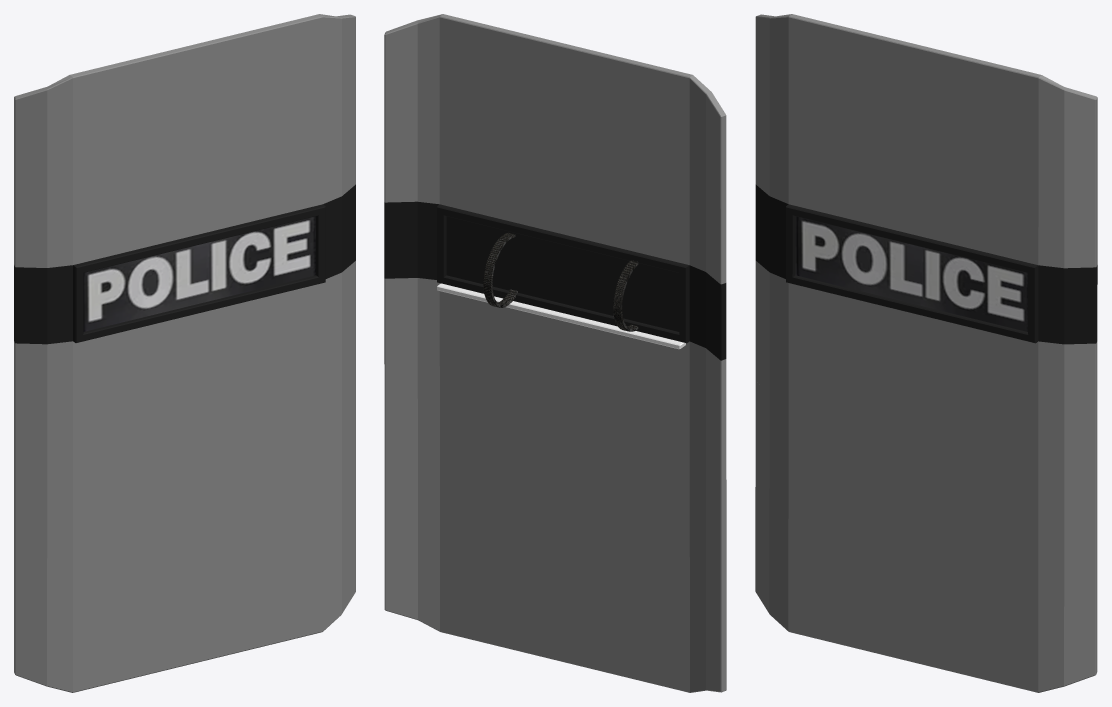
The model's file is Shield.FBX.
The picture shows the model from 3 angles, left to right: view 1: azimuth 30°, elevation 25°; view 2: azimuth 150°, elevation 25°; view 3: azimuth 330°, elevation 25°; orthographic projection.
Parts seen in each view (by area): view 1: Shield; view 2: Shield; view 3: Shield.
Boxes of the visible parts, left/top/right/bottom form: Shield: left=14, top=14, right=355, bottom=692; Shield: left=384, top=14, right=726, bottom=692; Shield: left=755, top=14, right=1097, bottom=692.
Size of the model in its own units: 53.59 by 92.46 by 10.05.
Materials: 2 (1 with a texture image).
